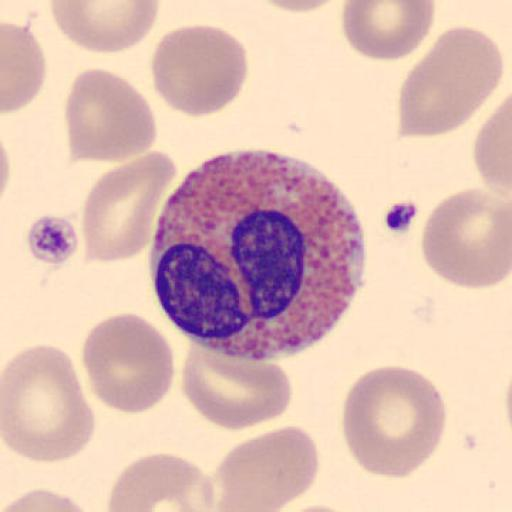Platelet: (23, 210, 82, 270)
RBC: (340, 364, 448, 479), (398, 26, 505, 138), (1, 344, 97, 464), (81, 150, 178, 264), (181, 341, 294, 432), (80, 310, 175, 416), (420, 185, 512, 290), (150, 22, 250, 118), (212, 424, 320, 511), (64, 66, 158, 165), (398, 46, 488, 139), (106, 451, 218, 512), (48, 0, 161, 55), (341, 0, 437, 62), (472, 93, 512, 205), (1, 19, 47, 115), (1, 488, 97, 512), (249, 0, 348, 14), (0, 127, 11, 209), (274, 503, 359, 512)
WBC: (146, 153, 370, 360)
